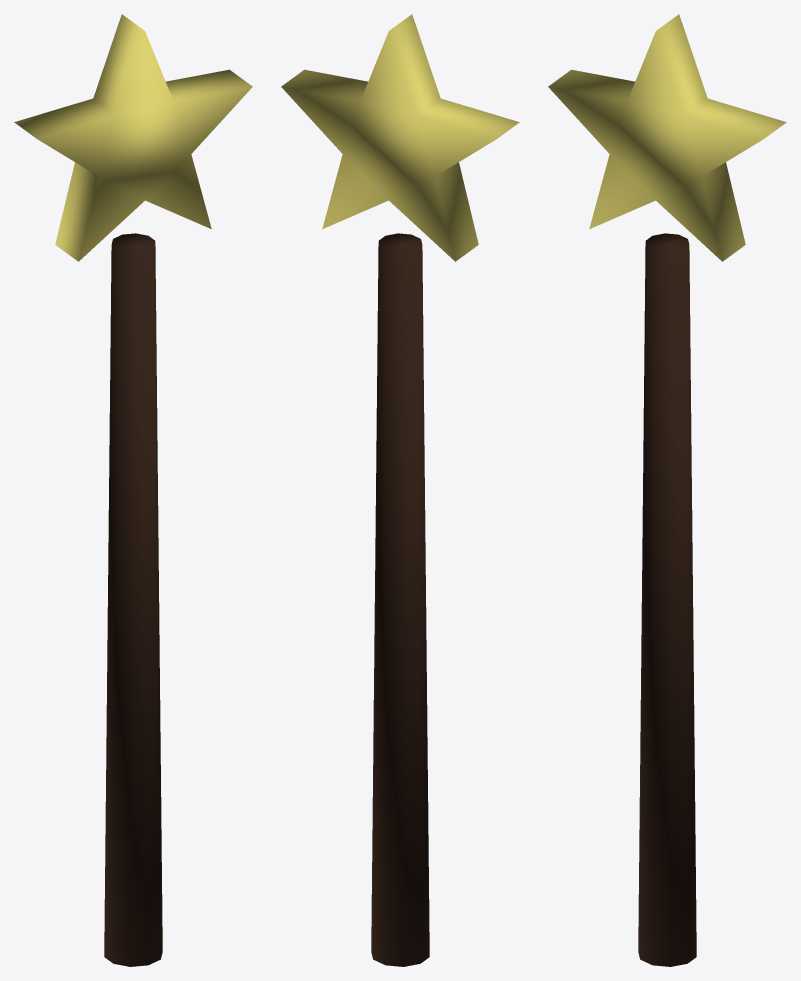
File: wand.glb
The picture shows the model from 3 angles, left to right: view 1: azimuth 30°, elevation 25°; view 2: azimuth 150°, elevation 25°; view 3: azimuth 330°, elevation 25°; orthographic projection.
Parts seen in each view (by area): view 1: wand, wand_glow; view 2: wand, wand_glow; view 3: wand, wand_glow.
Part boxes in pixels (bbox=[...]): wand: bbox=[104, 233, 162, 966]; wand_glow: bbox=[14, 14, 252, 261]; wand: bbox=[371, 233, 429, 966]; wand_glow: bbox=[281, 14, 519, 261]; wand: bbox=[638, 233, 696, 966]; wand_glow: bbox=[548, 14, 786, 261].
Size of the model in its own units: 0.1331 by 0.55 by 0.032.
